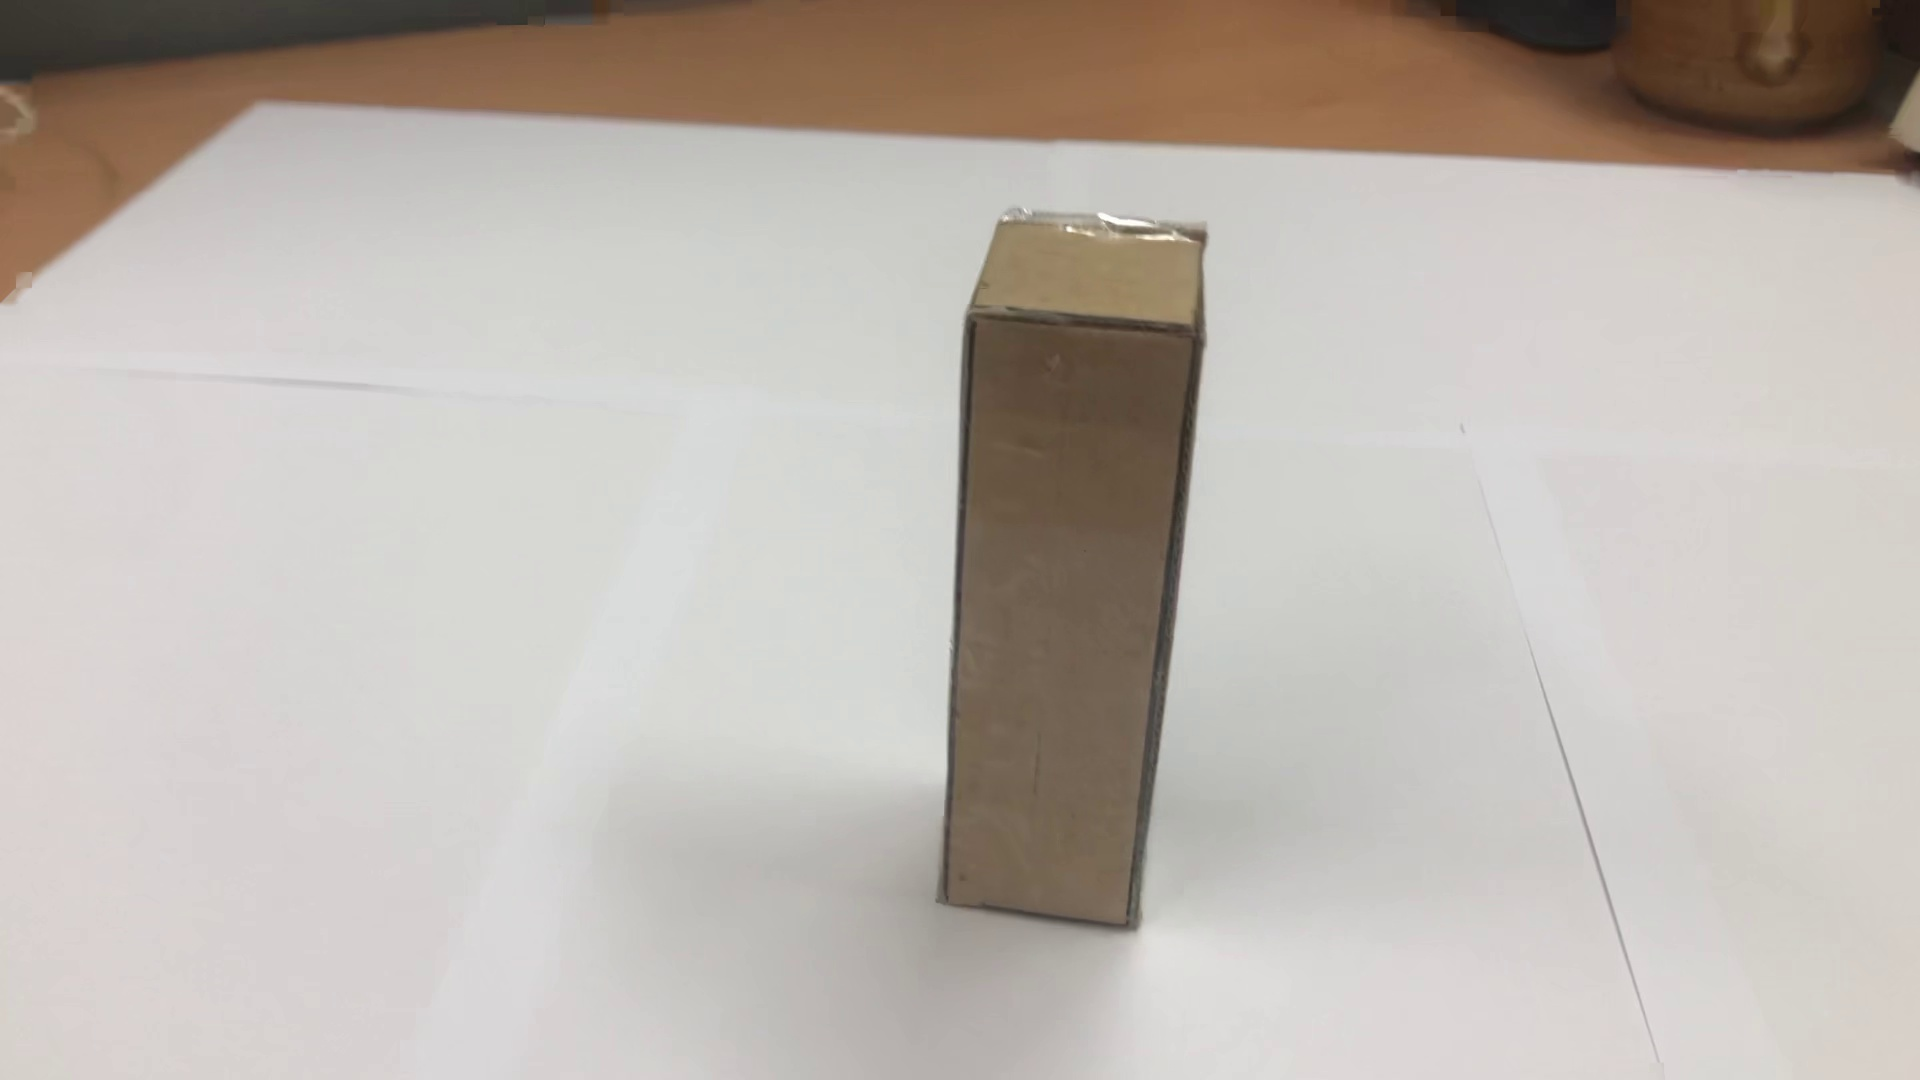box: (926, 193, 1234, 956)
